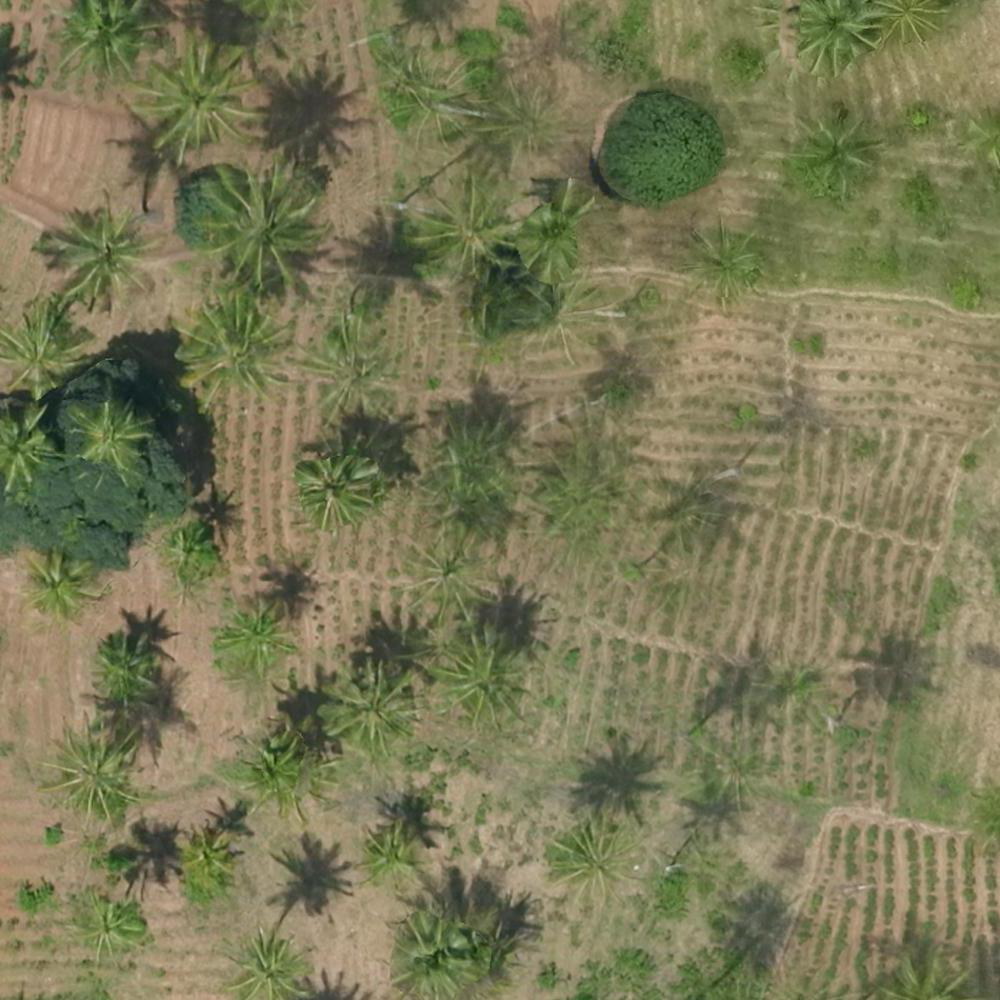Palm: (203, 177, 318, 291), (146, 43, 249, 149), (178, 299, 281, 396), (51, 201, 149, 301), (42, 729, 135, 821), (301, 325, 395, 415), (319, 661, 417, 745), (399, 535, 491, 621), (53, 4, 155, 80), (433, 643, 522, 726), (388, 915, 474, 994), (792, 109, 878, 188), (68, 396, 145, 480), (294, 450, 378, 526), (3, 307, 84, 385), (236, 731, 313, 810), (683, 225, 761, 300), (19, 545, 100, 616), (792, 1, 874, 67), (69, 888, 138, 962), (220, 600, 297, 666), (550, 824, 622, 893), (229, 933, 305, 996), (1, 406, 53, 492), (872, 1, 949, 57), (88, 636, 151, 696), (176, 827, 236, 885), (166, 529, 217, 580), (365, 822, 414, 874)
